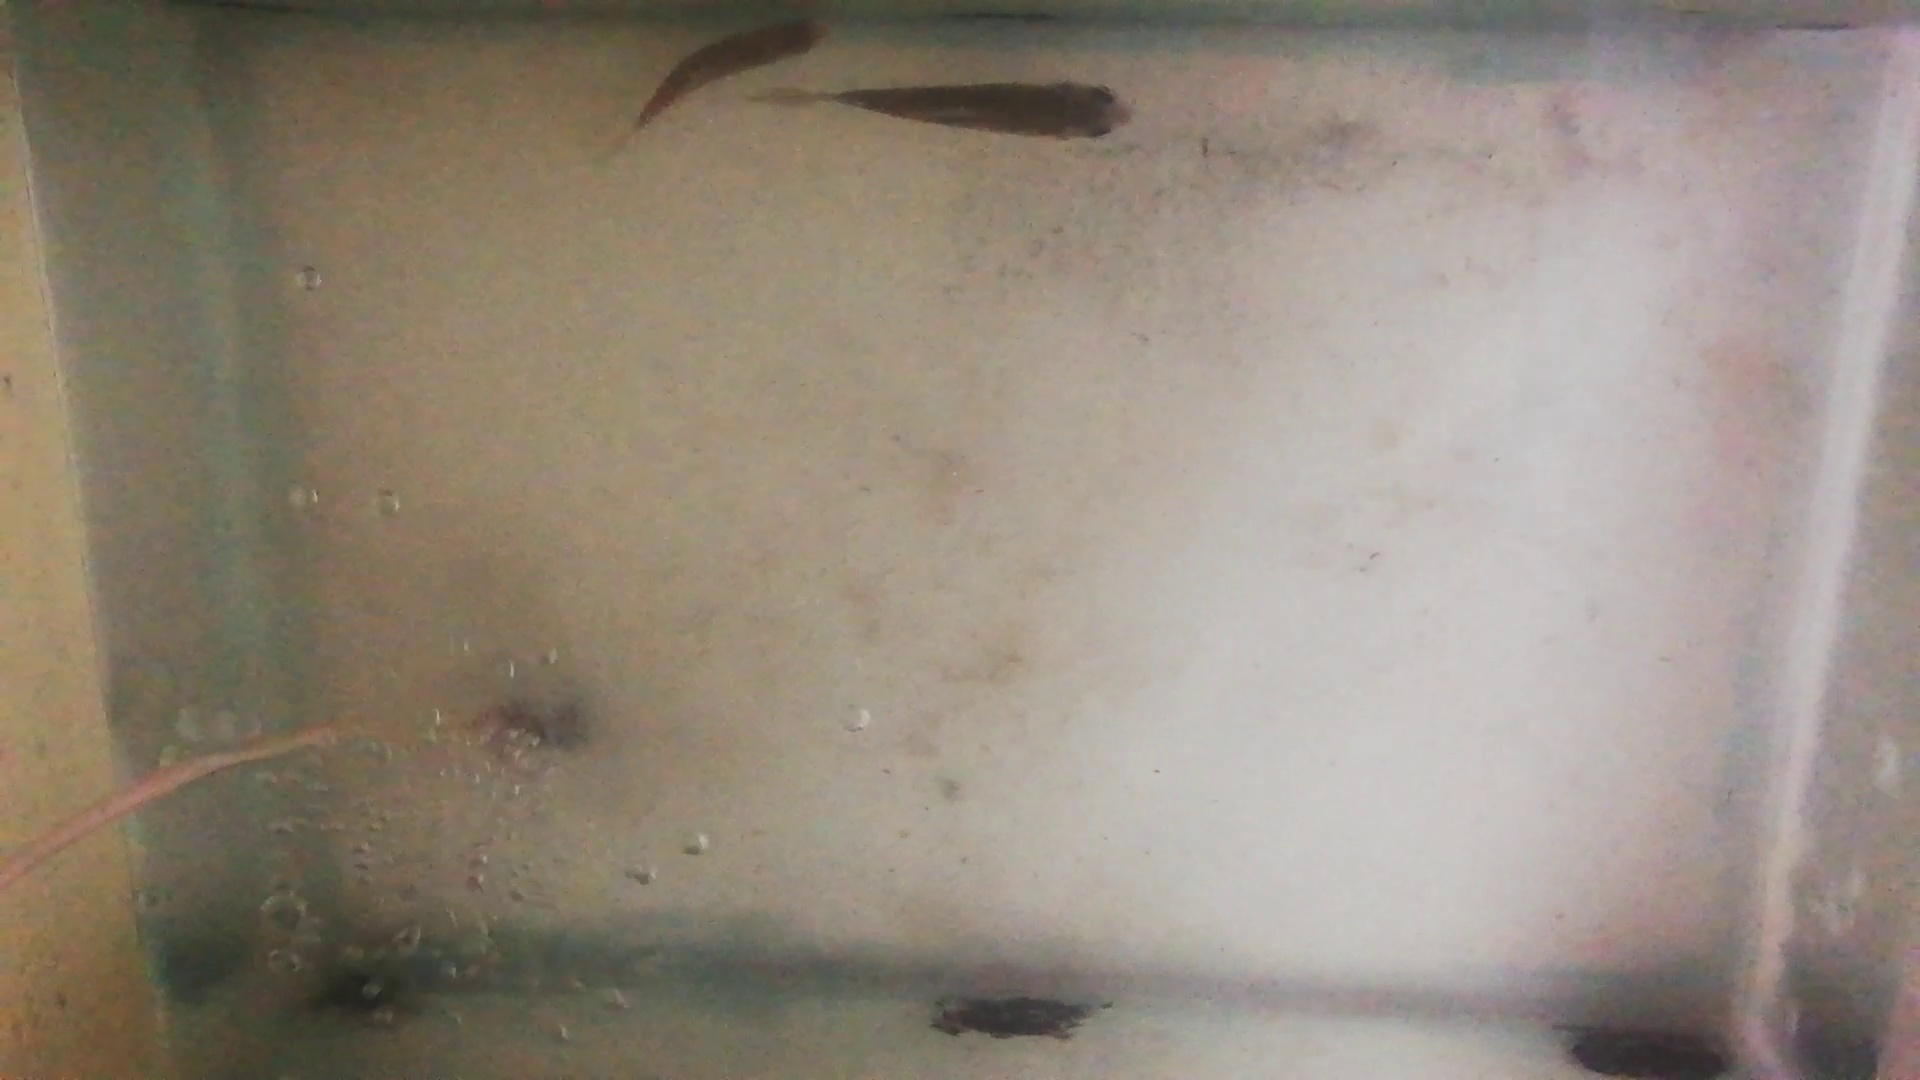fish: (632, 18, 832, 124), (836, 80, 1137, 144)
